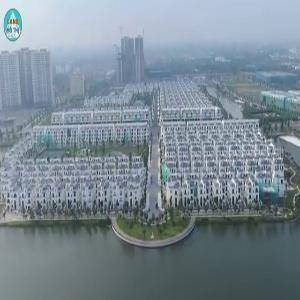drone: (206, 200, 247, 241)
